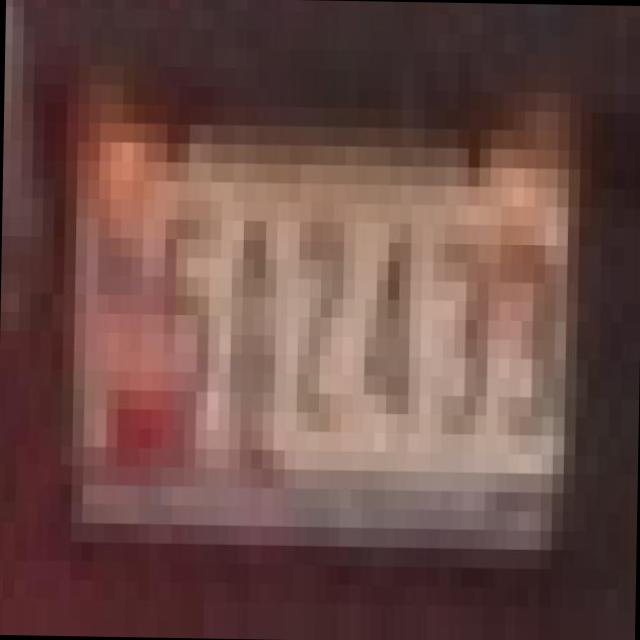LicensePlate: (49, 78, 582, 566)
